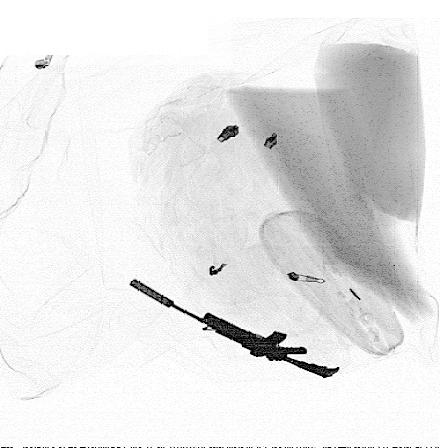Gun: (128, 278, 339, 378)
